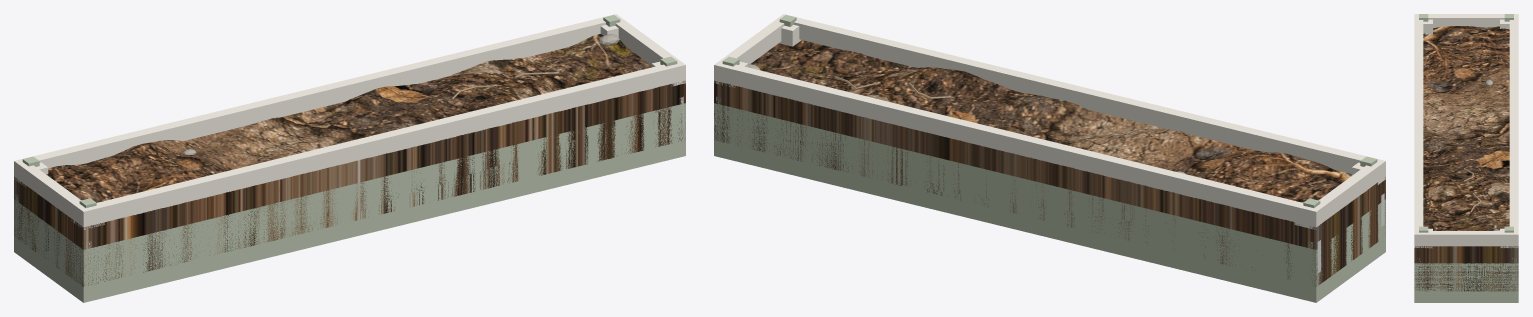
The model's file is s03-untreated-edge-south.glb.
The picture shows the model from 3 angles, left to right: view 1: azimuth 30°, elevation 25°; view 2: azimuth 150°, elevation 25°; view 3: azimuth 270°, elevation 25°; orthographic projection. The views are drawn at different scales.
Visible parts, largest first — view 1: S03_Physical_Untreated_Soil_Top_RealRelief, S03_Frame_Sage_Solid_Bottom, S03_Cream_Rim_N, S03_Cream_Rim_S, S03_Cream_Rim_W, S03_Cream_Rim_E; view 2: S03_Physical_Untreated_Soil_Top_RealRelief, S03_Frame_Sage_Solid_Bottom, S03_Cream_Rim_S, S03_Cream_Rim_N, S03_Cream_Rim_W, S03_Cream_Rim_E; view 3: S03_Physical_Untreated_Soil_Top_RealRelief, S03_Frame_Sage_Solid_Bottom, S03_Cream_Rim_S, S03_Cream_Rim_N, S03_Cream_Rim_E, S03_Cream_Rim_W, S03_Cream_Protective_Corner_1_0, S03_Cream_Protective_Corner_1_1, S03_Cream_Protective_Corner_0_1, S03_Cream_Protective_Corner_0_0.
Part boxes in pixels (x1,y1,x2,y2): S03_Physical_Untreated_Soil_Top_RealRelief: (14,34,685,286); S03_Frame_Sage_Solid_Bottom: (14,103,685,302); S03_Cream_Rim_N: (77,60,685,227); S03_Cream_Rim_S: (14,14,621,179); S03_Cream_Rim_W: (14,159,93,226); S03_Cream_Rim_E: (613,14,685,80); S03_Physical_Untreated_Soil_Top_RealRelief: (714,40,1385,286); S03_Frame_Sage_Solid_Bottom: (714,103,1385,302); S03_Cream_Rim_S: (714,60,1322,227); S03_Cream_Rim_N: (778,14,1385,176); S03_Cream_Rim_W: (1307,159,1385,227); S03_Cream_Rim_E: (714,14,784,81); S03_Physical_Untreated_Soil_Top_RealRelief: (1414,26,1518,291); S03_Frame_Sage_Solid_Bottom: (1414,263,1518,302); S03_Cream_Rim_S: (1509,14,1518,246); S03_Cream_Rim_N: (1414,14,1423,246); S03_Cream_Rim_E: (1414,231,1518,246); S03_Cream_Rim_W: (1414,14,1518,28); S03_Cream_Protective_Corner_1_0: (1500,228,1518,248); S03_Cream_Protective_Corner_1_1: (1414,228,1432,248); S03_Cream_Protective_Corner_0_1: (1423,19,1432,33); S03_Cream_Protective_Corner_0_0: (1500,19,1509,29).
Bounding box in the file's own units: 1 × 0.149 × 0.2.
8 materials, 1 textured.
